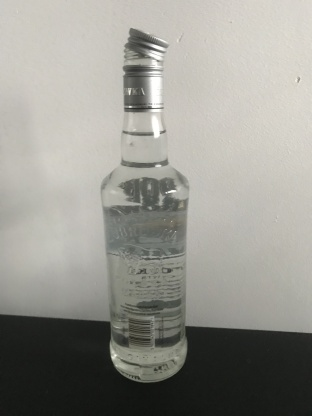nakretka: (121, 24, 169, 112)
